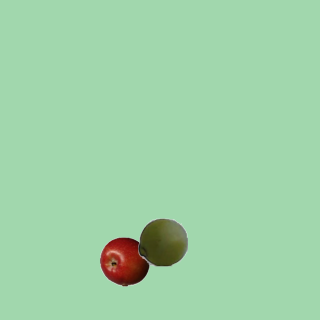Apple Braeburn: (99, 236, 149, 286)
Grape White 4: (137, 216, 187, 266)
